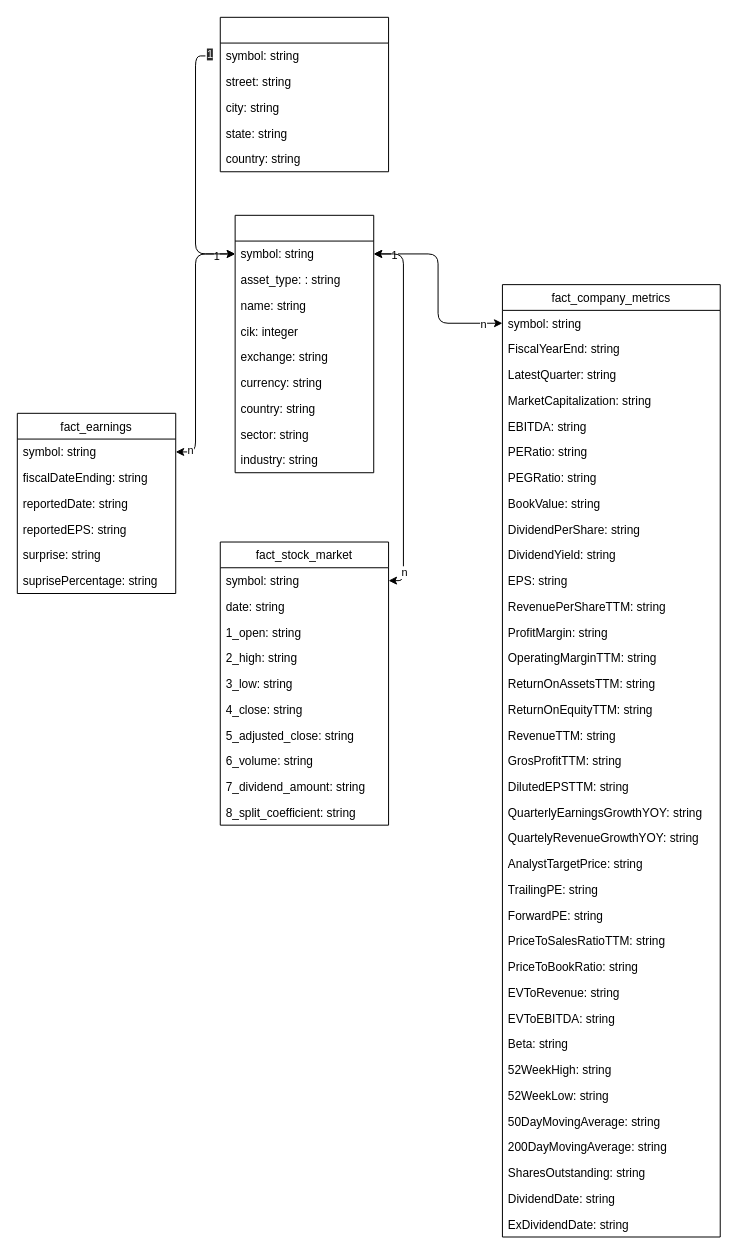
Some shapes in this 738 by 1257 pixel diagram are drawn without their labels. The shapes that lost their labels are listed below. From the top down, each one's box as (x1, y1, x2, y2) in pixels, then its label:
(219, 16, 389, 172): dim_company_address
(234, 214, 374, 473): dim_company
